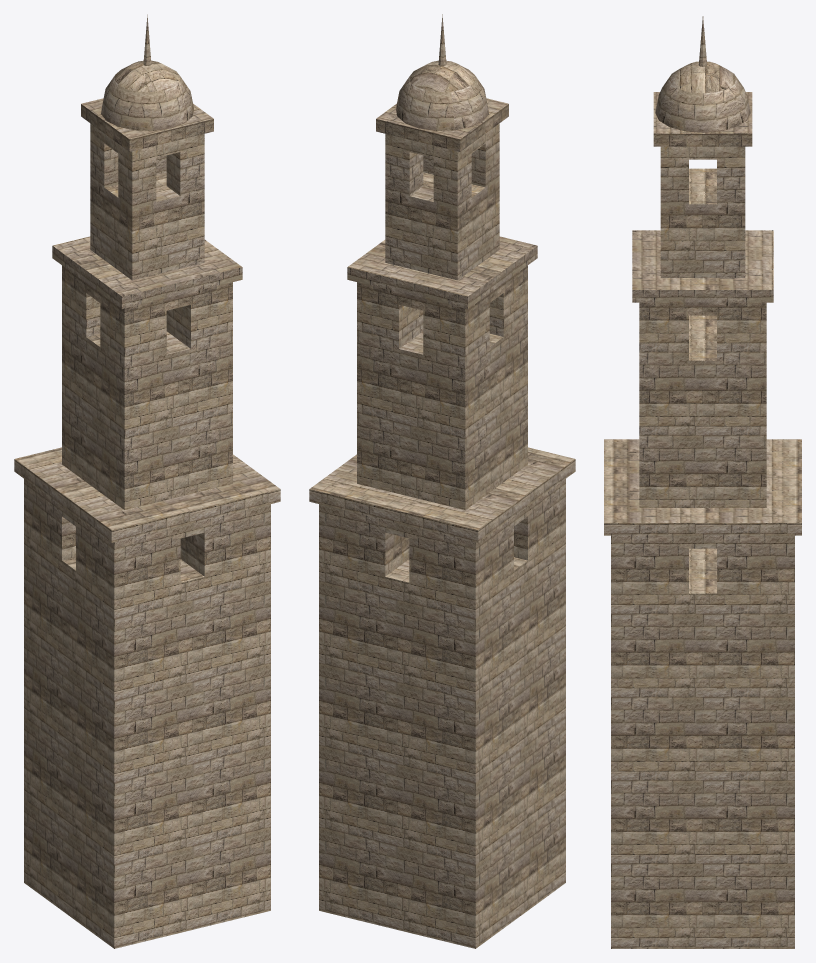
The model's file is square.glb.
The picture shows the model from 3 angles, left to right: view 1: azimuth 30°, elevation 25°; view 2: azimuth 150°, elevation 25°; view 3: azimuth 270°, elevation 25°; orthographic projection.
Visible parts, largest first — view 1: square; view 2: square; view 3: square.
Part boxes in pixels (x1,y1,x2,y2): square: (14, 14, 280, 948); square: (309, 14, 575, 948); square: (604, 16, 801, 948).
Bounding box in the file's own units: 5.6 × 27.98 × 5.6.
1 material, 1 textured.
